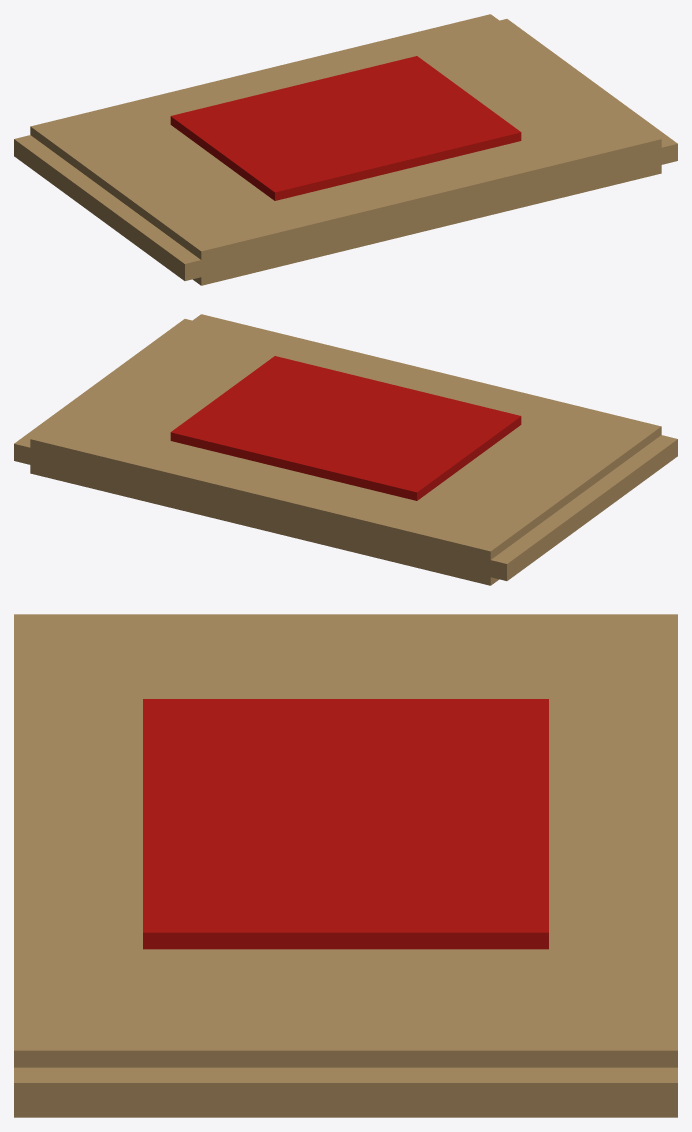
The model's file is mre_bag_dessert.glb.
3 views of the same model, one above another, from view 1: azimuth 30°, elevation 25°; view 2: azimuth 150°, elevation 25°; view 3: azimuth 270°, elevation 25° (orthographic). The views are drawn at different scales.
Parts seen in each view (by area): view 1: mre_bag_dessert:compound; view 2: mre_bag_dessert:compound; view 3: mre_bag_dessert:compound.
Boxes of the visible parts, bbox=[...] form: mre_bag_dessert:compound: bbox=[14, 14, 677, 285]; mre_bag_dessert:compound: bbox=[14, 314, 677, 585]; mre_bag_dessert:compound: bbox=[14, 614, 677, 1117].
Size of the model in its own units: 0.12 by 0.01 by 0.072.
